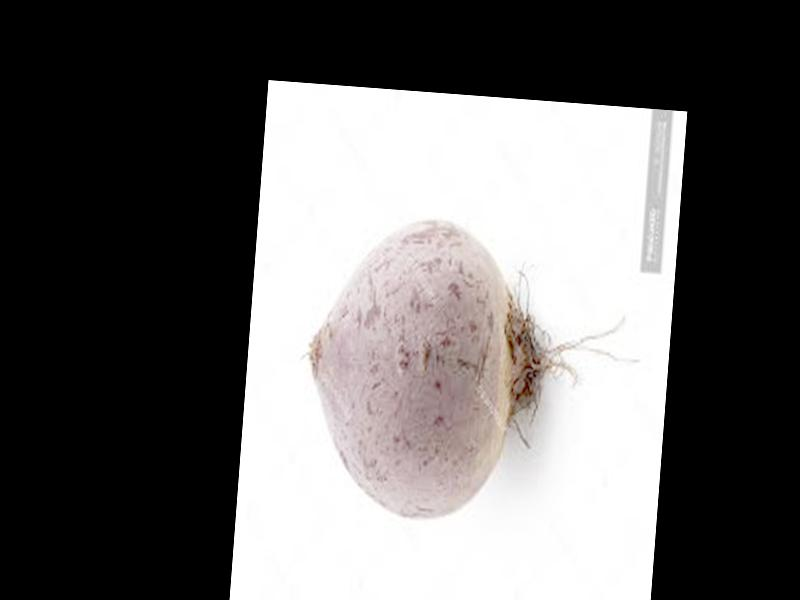Beet: (294, 208, 650, 535)
